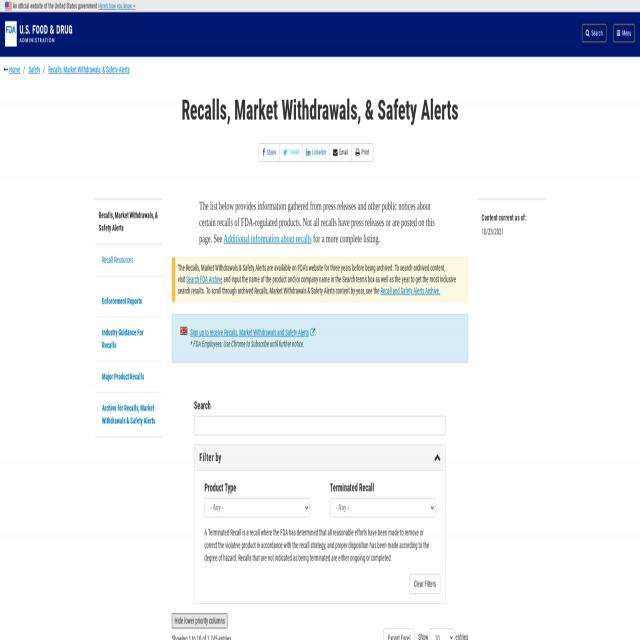button: (194, 445, 446, 470), (172, 613, 228, 628), (410, 574, 440, 594), (582, 24, 606, 43), (303, 144, 329, 161), (612, 23, 635, 42), (280, 144, 303, 161), (330, 144, 352, 161), (259, 144, 280, 161), (352, 144, 373, 161), (180, 326, 187, 337), (5, 1, 12, 12)
field: (194, 416, 446, 435), (204, 498, 310, 516), (330, 498, 436, 516), (384, 627, 415, 640), (429, 627, 454, 640)
